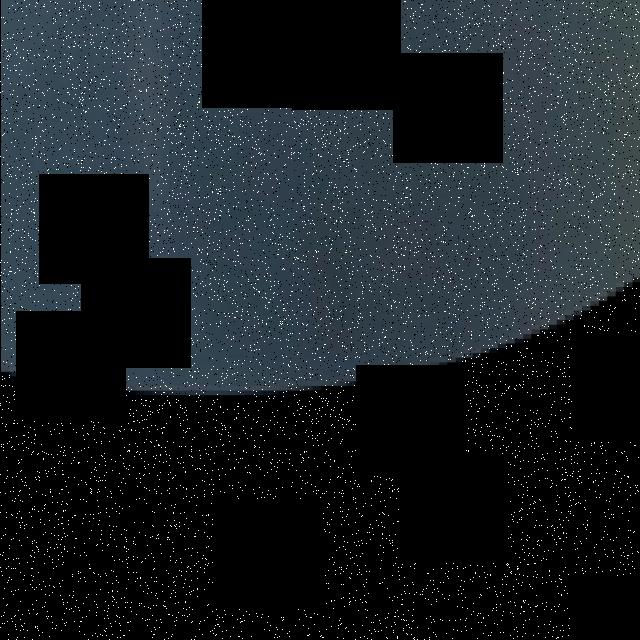Uranus: (0, 0, 640, 395)
